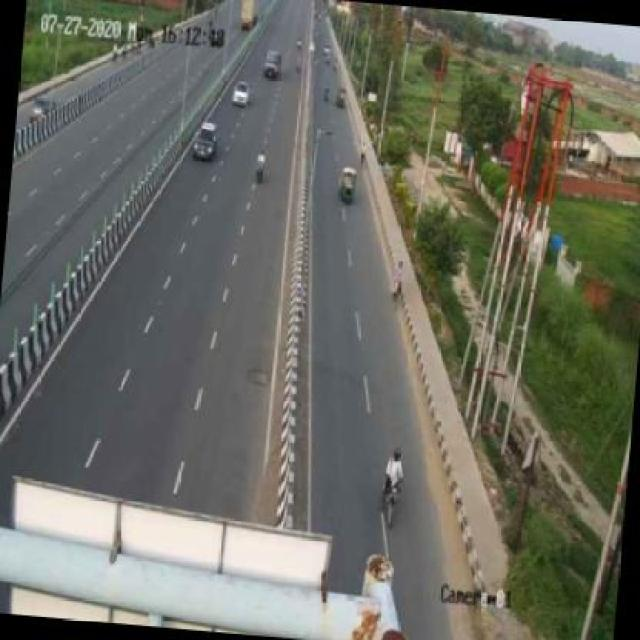car: (336, 162, 362, 208), (192, 123, 220, 163), (229, 76, 254, 112)
